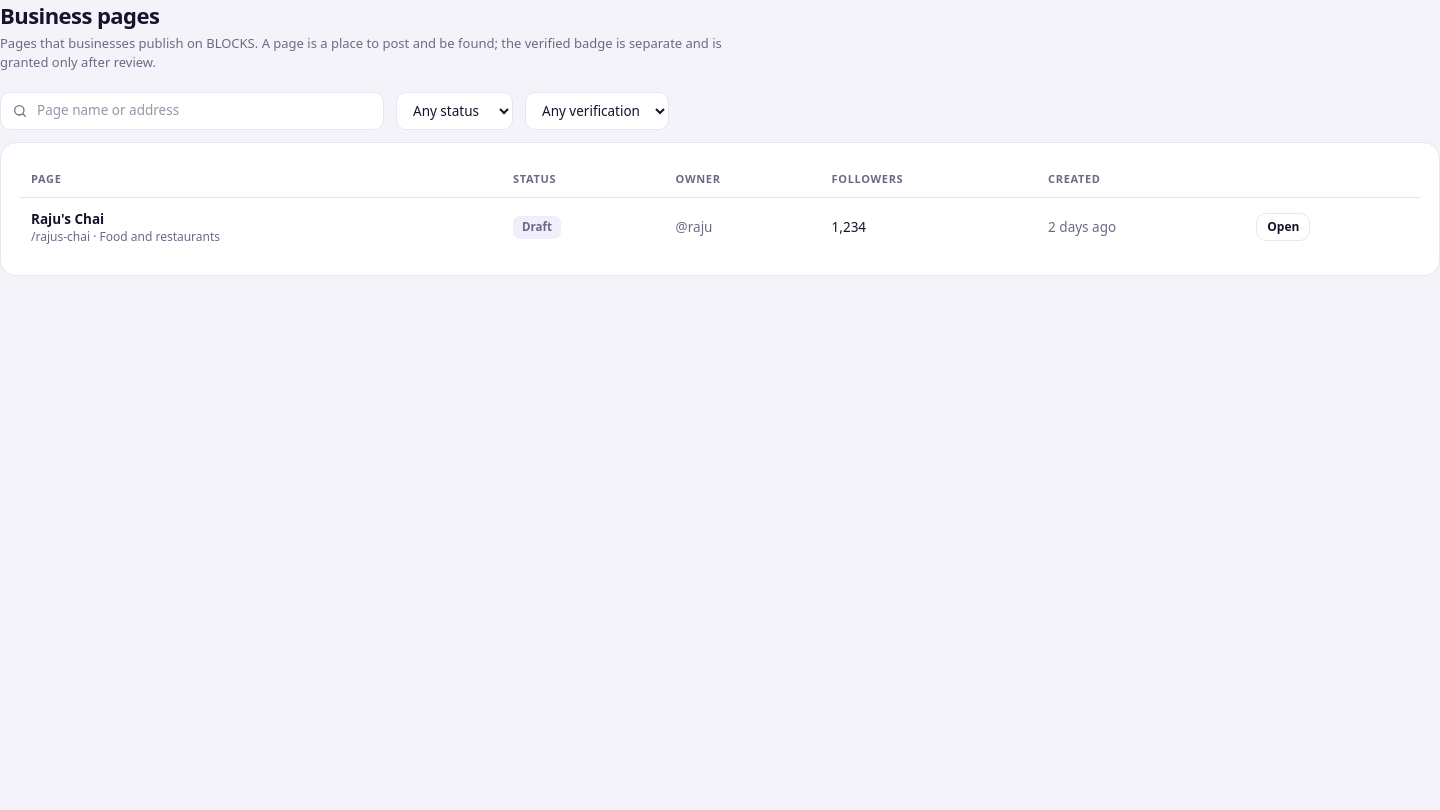
Test: business pages › offers neither for a draft
What coordinates should you click on to do the following:
click the button with aria-label "Open Raju"
I would click on:
 (1283, 227)
Its box is [1256,213,1310,241].
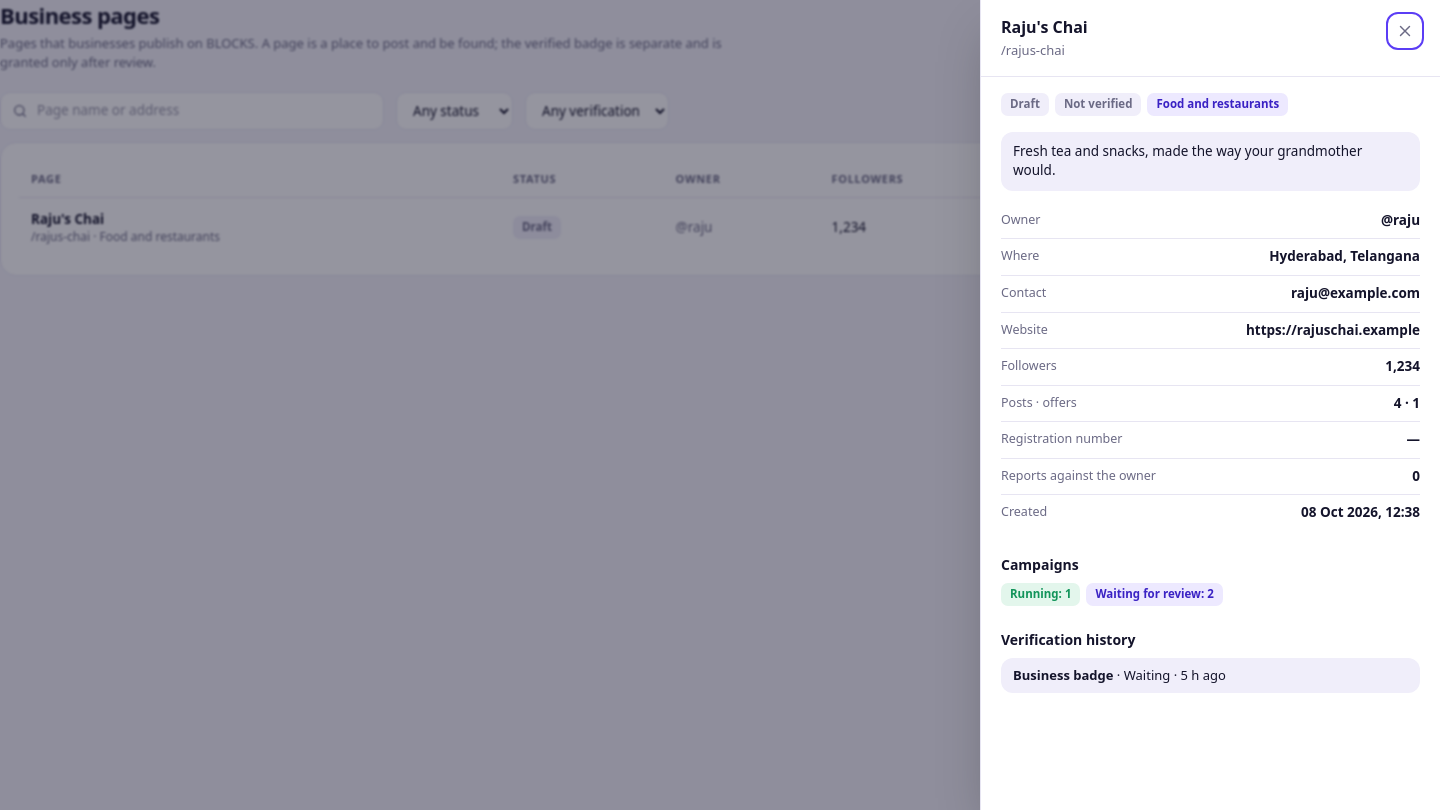
Check: the dialog "Raju's Chai" is shown, box [980,0,1439,809]
